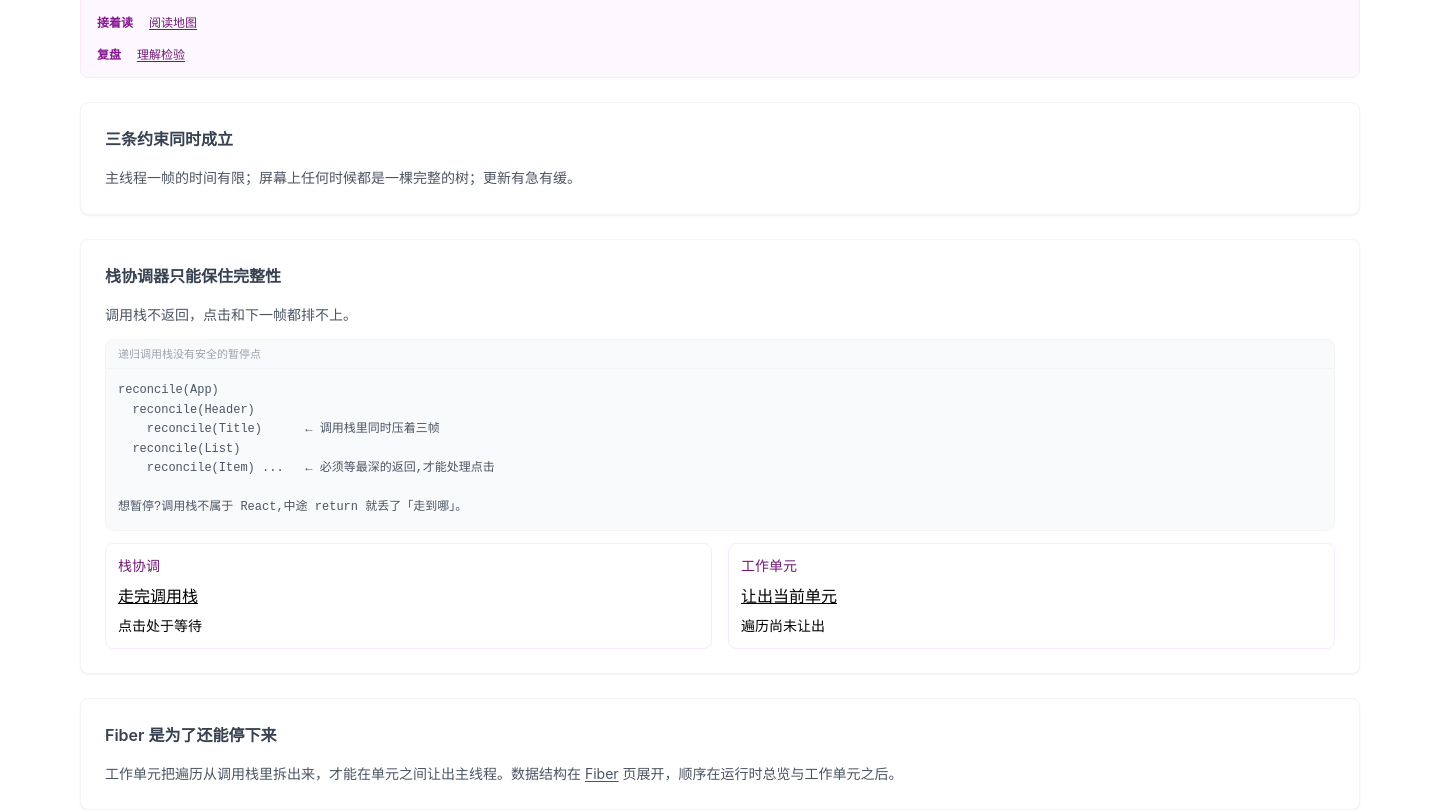
Scenario: 设计约束 › 同时呈现栈协调的等待和工作单元的让出
(page scrolled)
Expected: the text "点击处于等待" is shown, [118, 616, 202, 634]
Expected: the text "遍历尚未让出" is shown, [741, 616, 825, 634]
Click the button "走完调用栈" at (158, 596), box [118, 584, 198, 608]
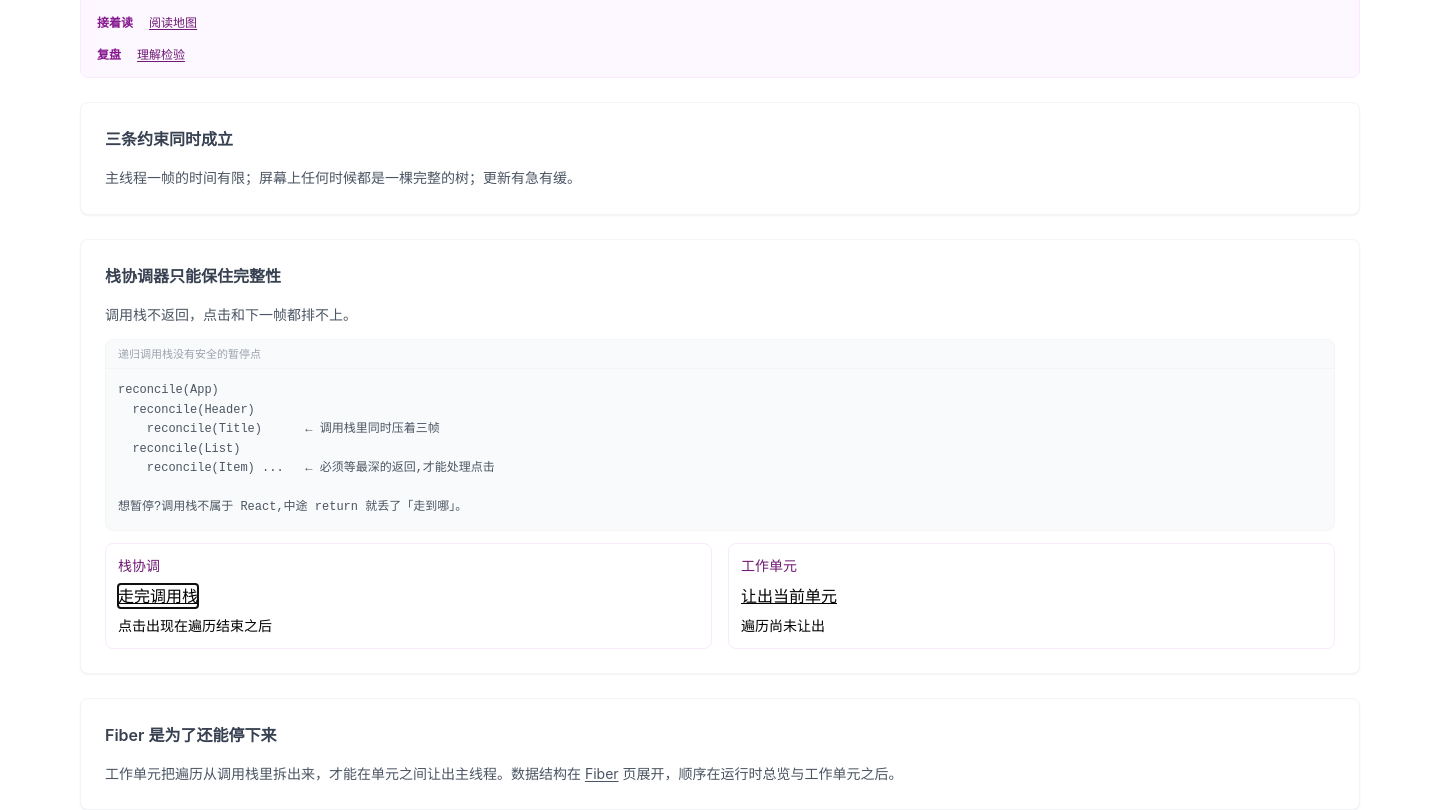
Click the button "让出当前单元" at (789, 596), box [741, 584, 837, 608]
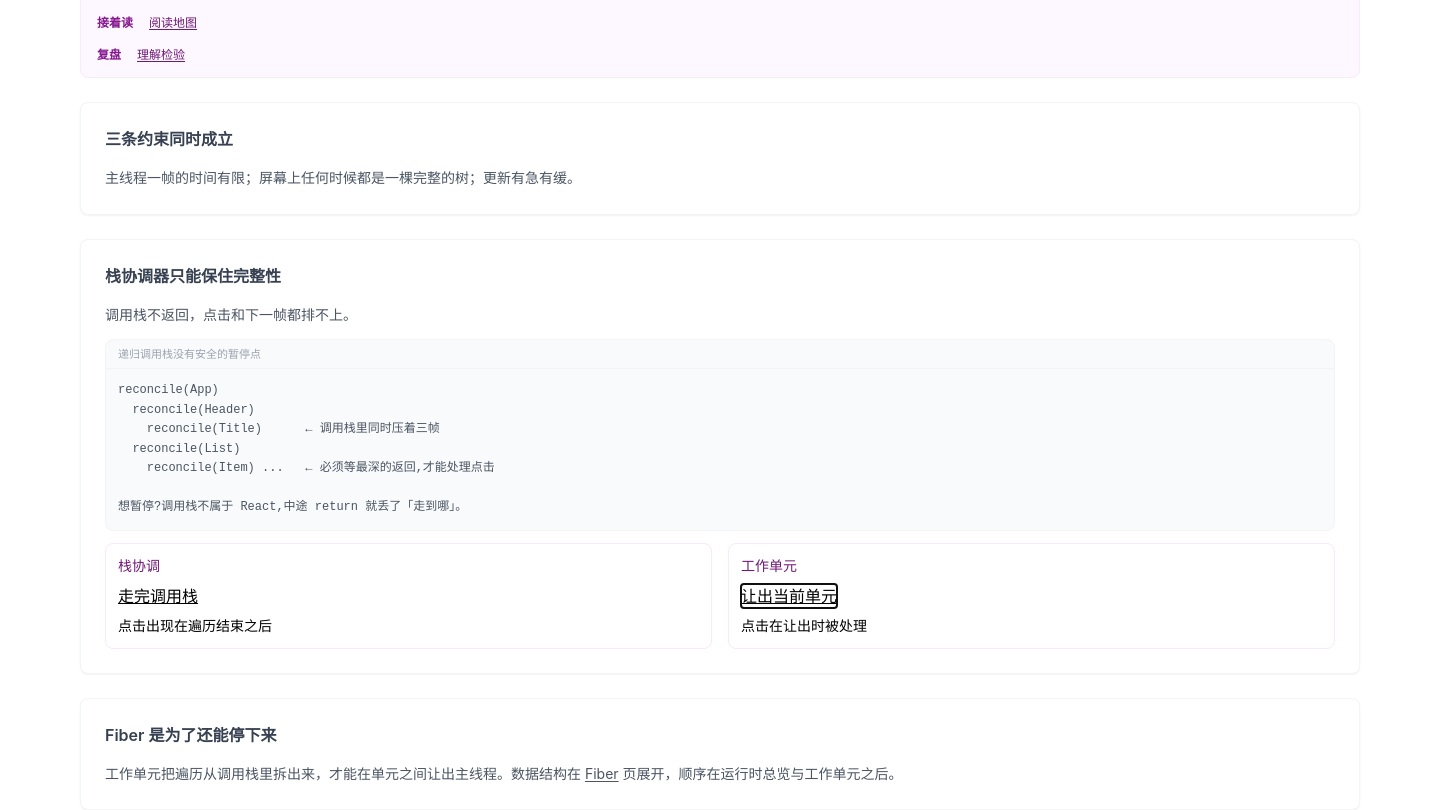
Expected: the text "点击出现在遍历结束之后" is shown, [118, 616, 272, 634]
Expected: the text "点击在让出时被处理" is shown, [741, 616, 867, 634]
